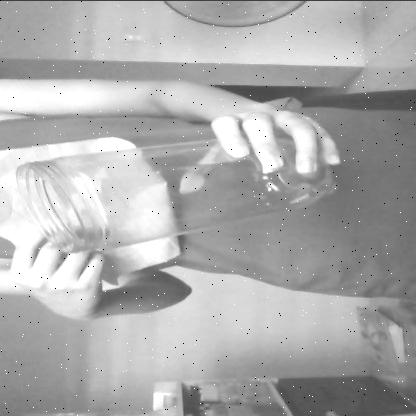Plastic Bottle: (24, 130, 336, 254)
